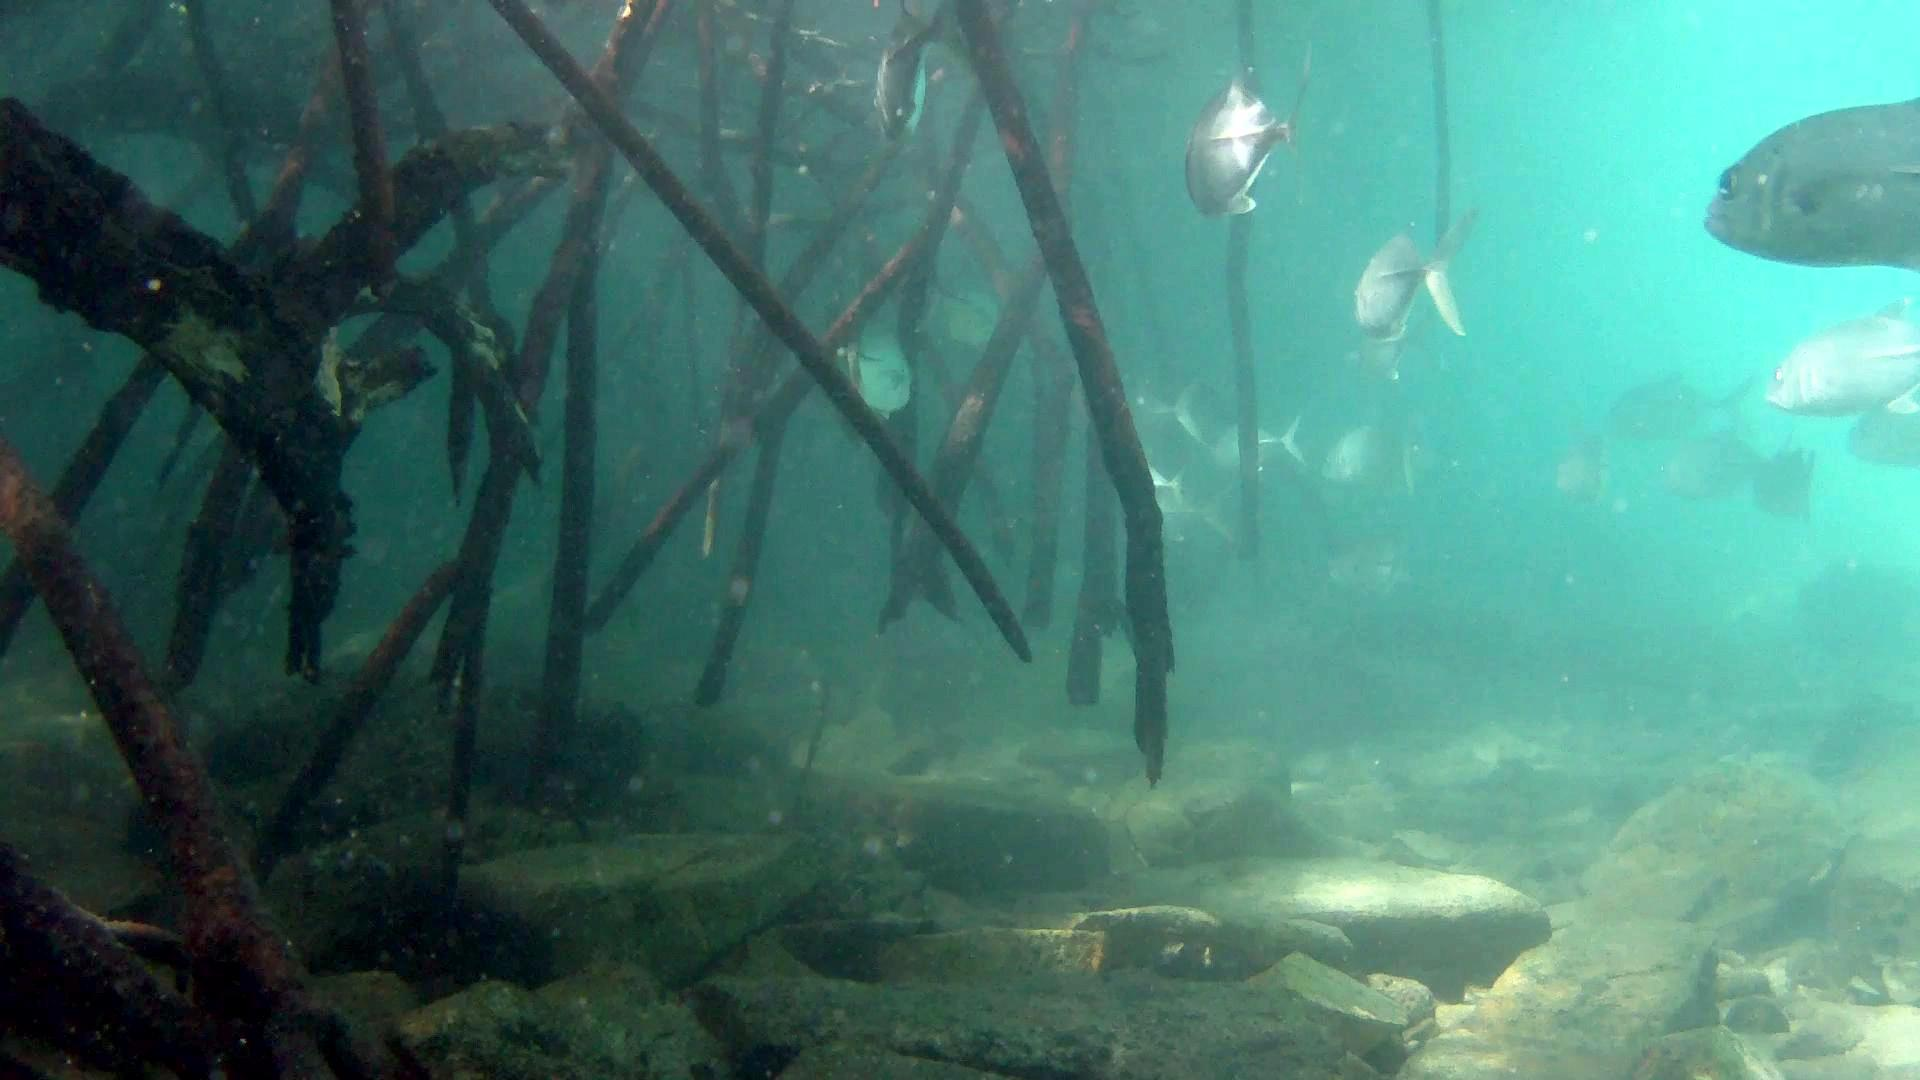caranx: (1691, 88, 1920, 280), (1178, 45, 1323, 227), (1349, 200, 1486, 348)
